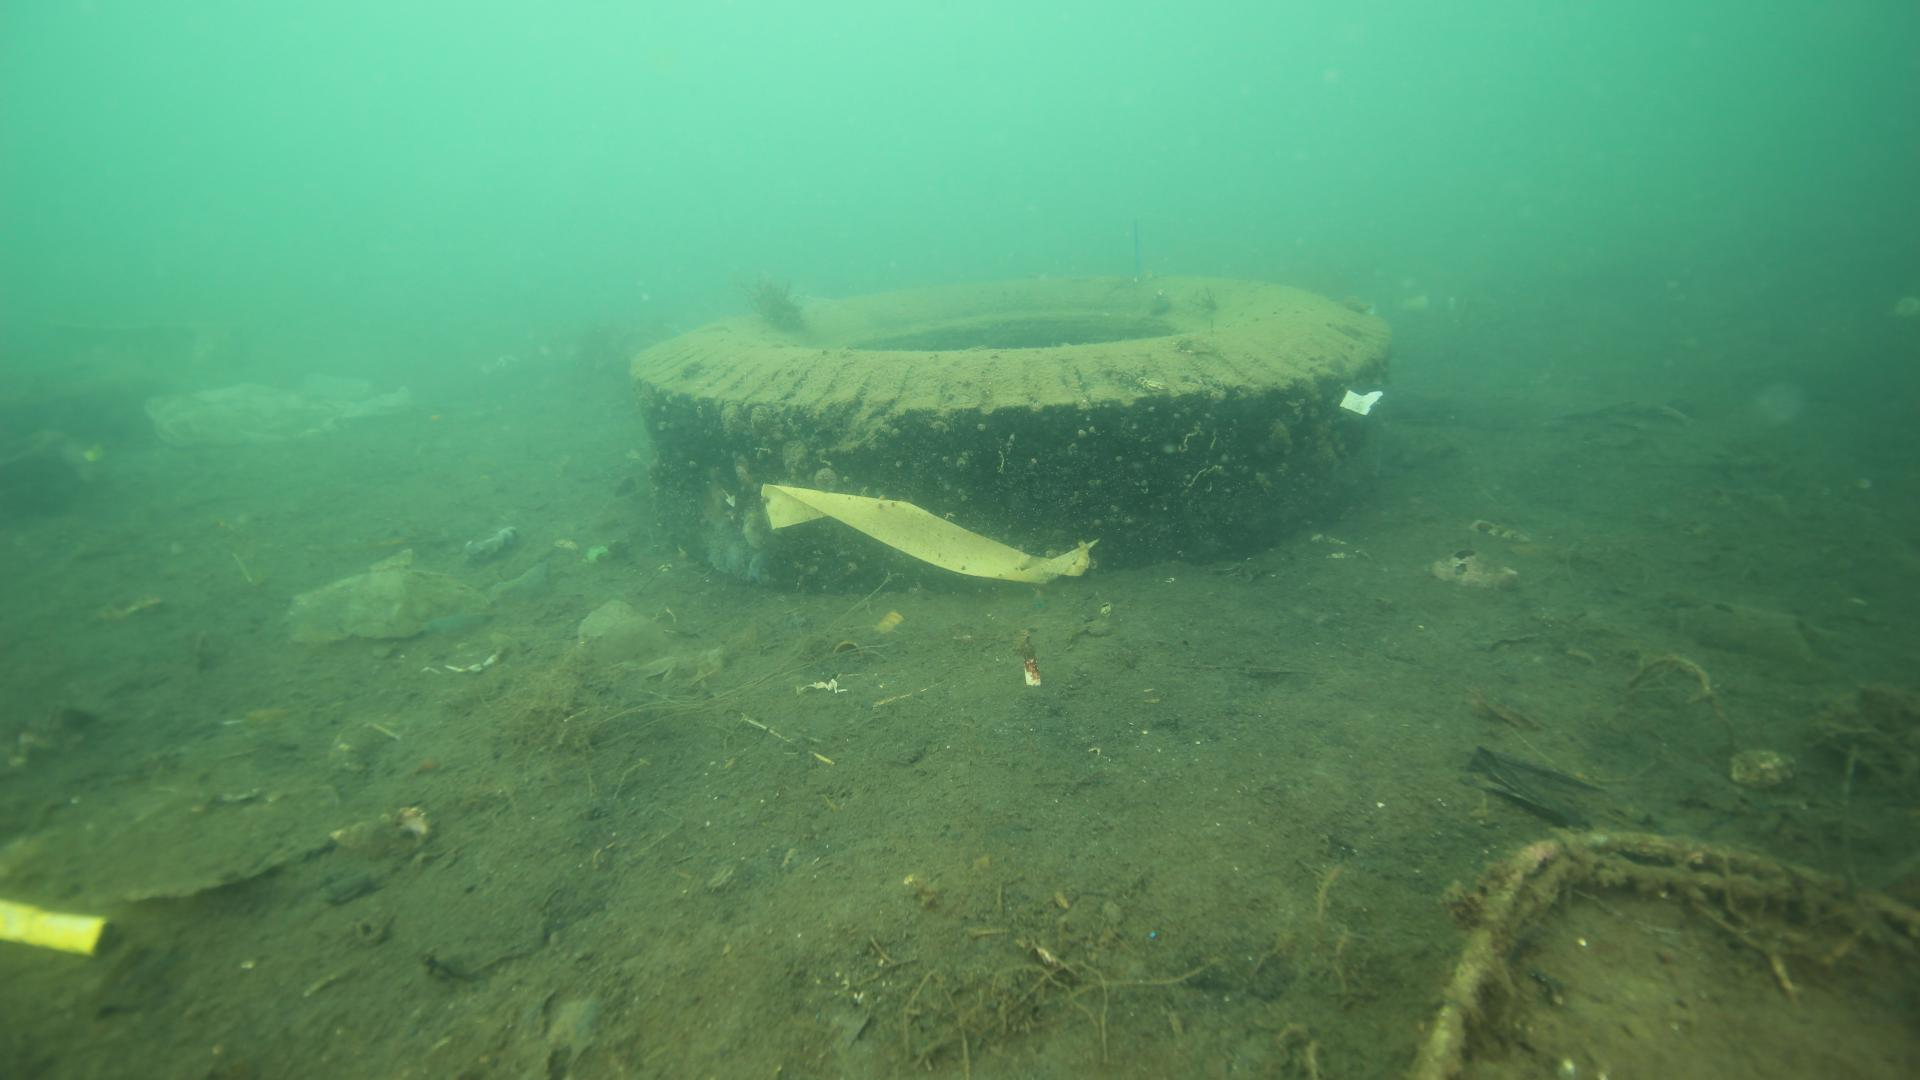tire: (626, 265, 1390, 568)
